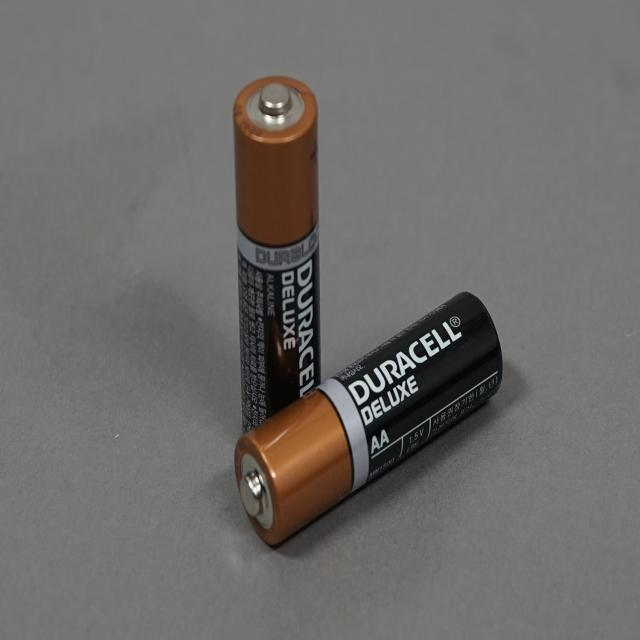battery: (236, 76, 326, 476)
